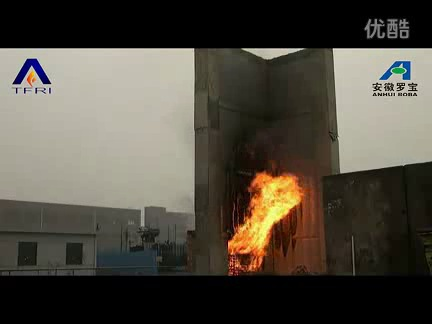fire: (224, 167, 309, 276)
